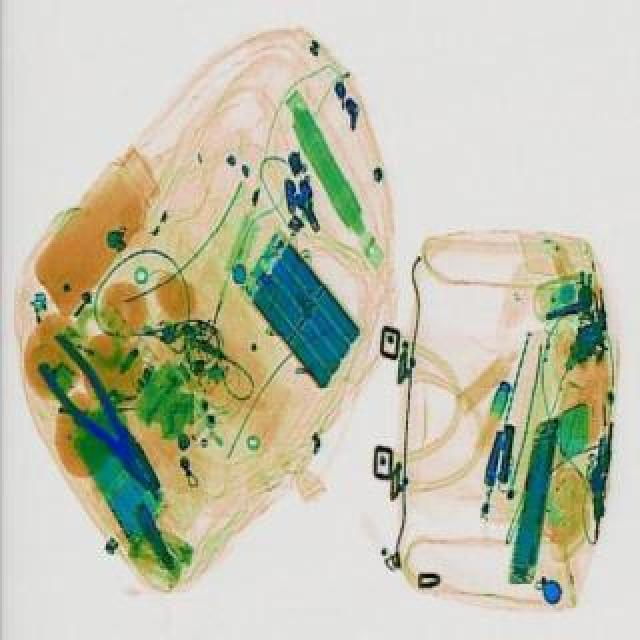wrench: (22, 328, 178, 500)
